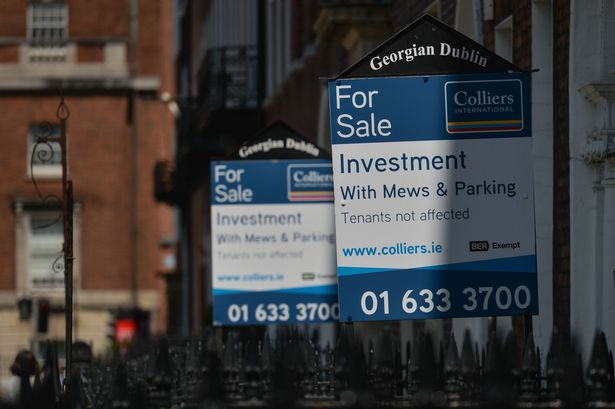property sign: (317, 62, 563, 331), (203, 148, 340, 337)
